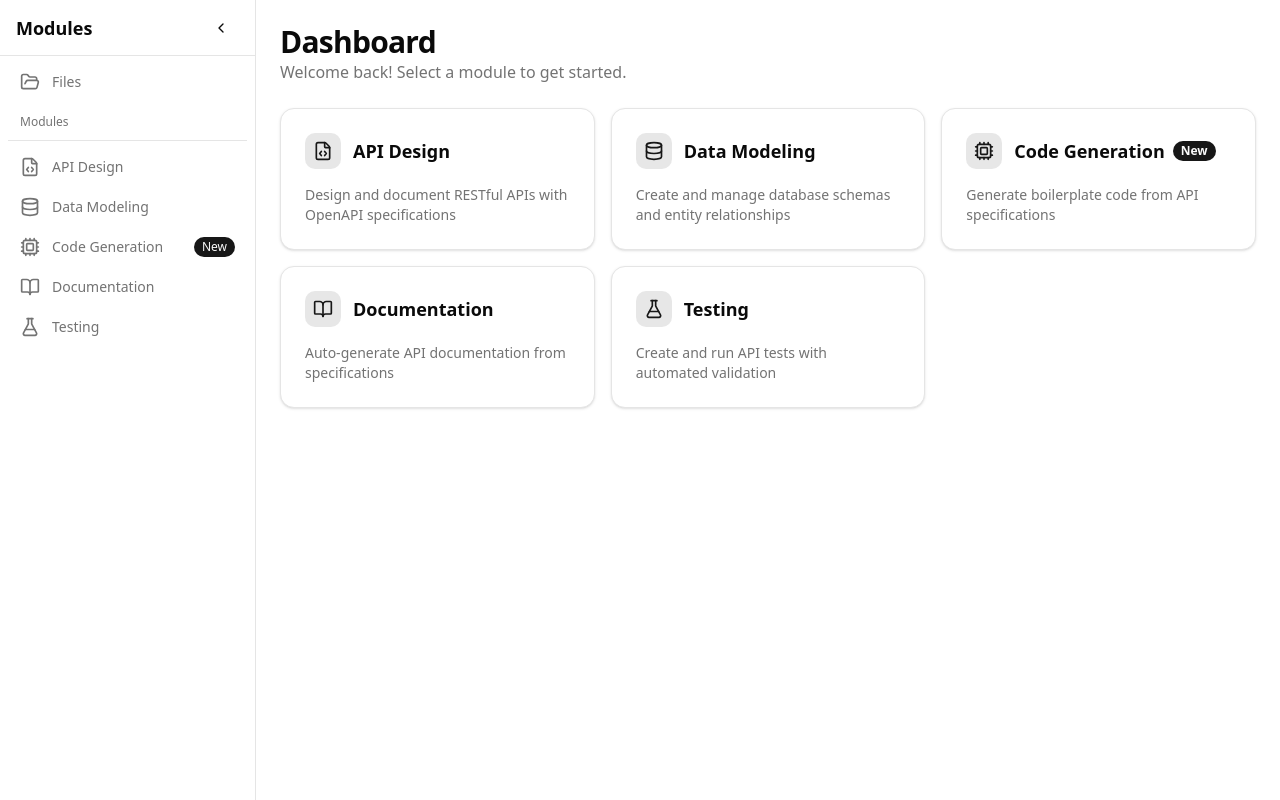
Dashboard › SC-004: < 2 clicks to any module › should navigate to any module in 1 click from dashboard
# One click to navigate - use sidebar link
Click the link to "/app/testing" at (60, 327), box [20, 317, 99, 337]
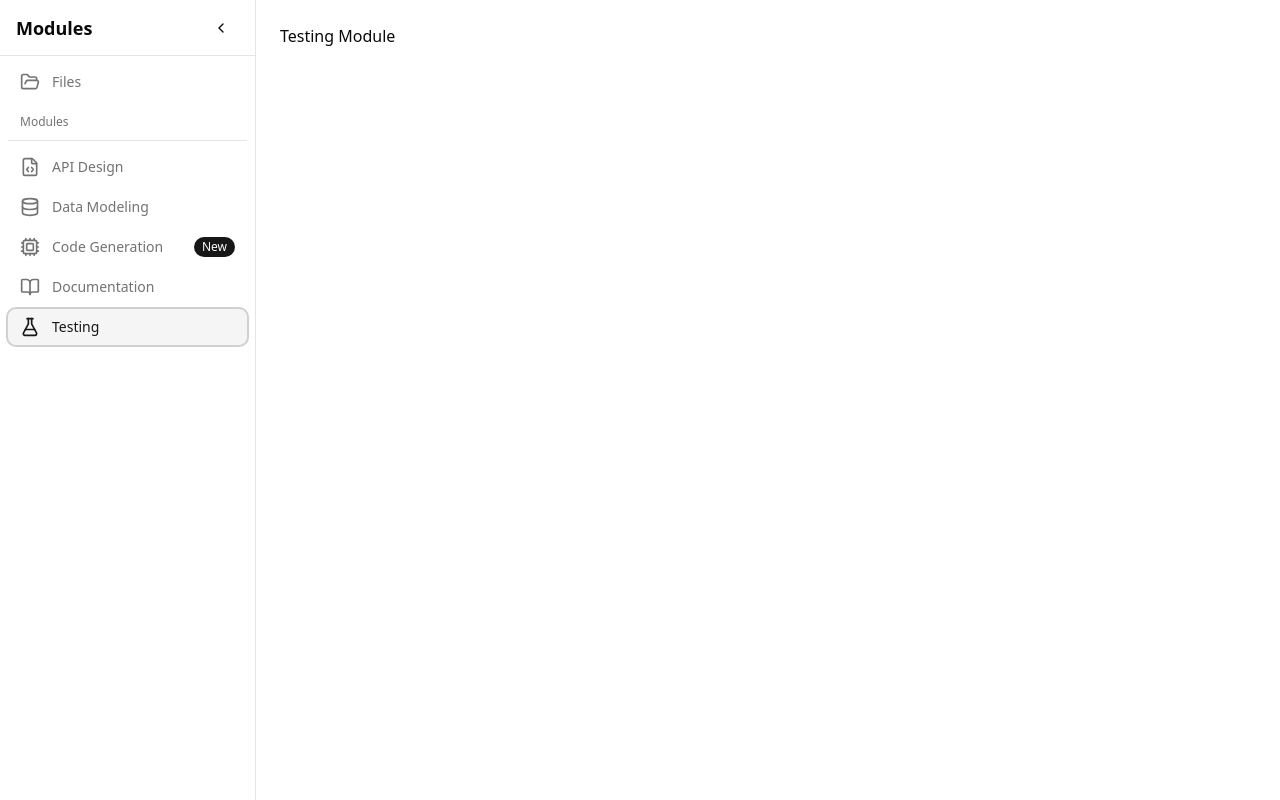
Result: the text "Testing Module" is shown at [280, 25, 395, 47]
